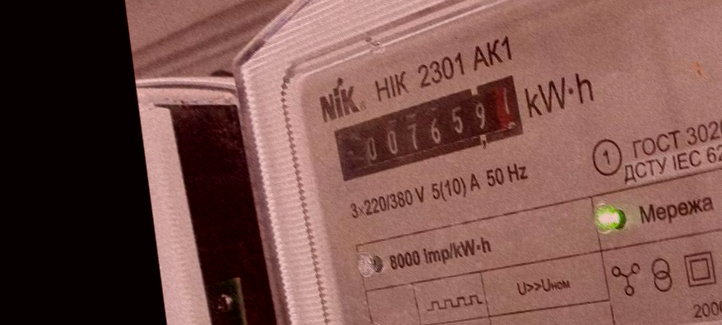0: (362, 131, 379, 160), (383, 126, 399, 154)
1: (496, 84, 512, 116)
5: (446, 102, 465, 136)
6: (426, 112, 442, 145)
7: (403, 117, 421, 151)
9: (470, 96, 489, 132)
screen: (314, 65, 545, 187)
